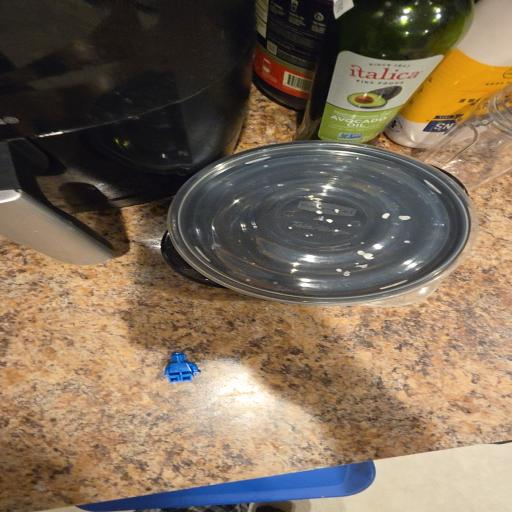Blue: (165, 352, 200, 382)
